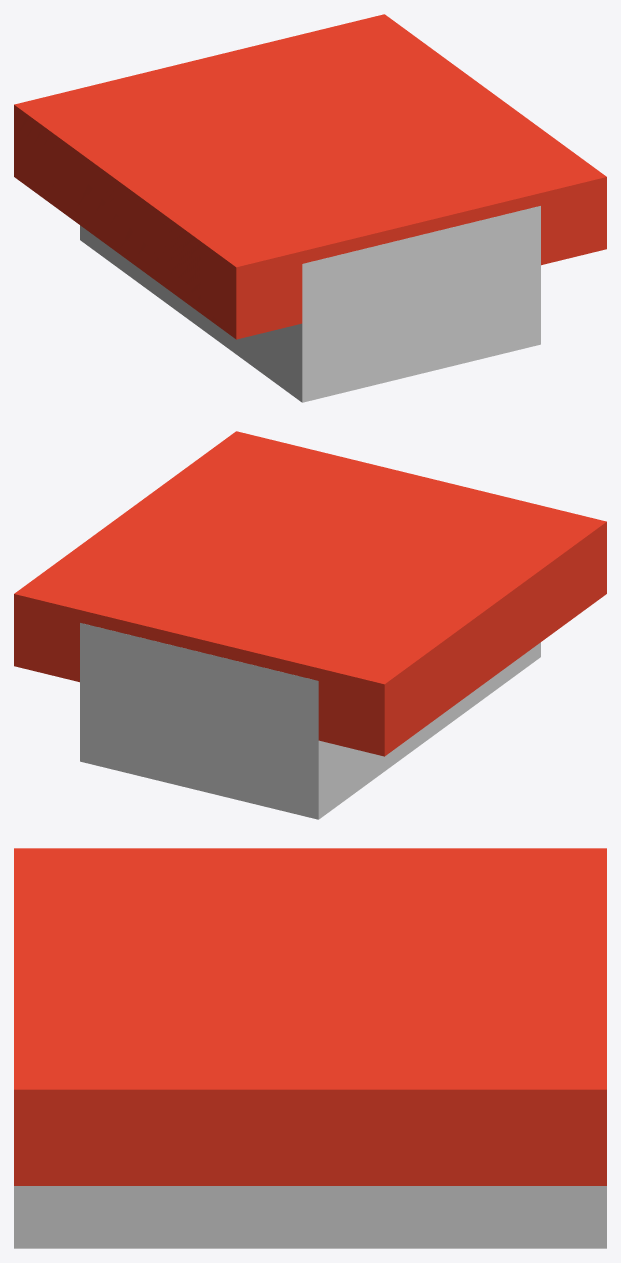
File: bench.fbx
3 renders of one model, top to bottom at view 1: azimuth 30°, elevation 25°; view 2: azimuth 150°, elevation 25°; view 3: azimuth 270°, elevation 25°, orthographic. The views are drawn at different scales.
Visible parts, largest first — view 1: Cube.001, Cube; view 2: Cube.001, Cube; view 3: Cube.001, Cube.
Boxes of the visible parts, x1,y1,x2,y2 form: Cube.001: (14,14,606,339); Cube: (80,206,540,402); Cube.001: (14,431,606,756); Cube: (80,623,540,819); Cube.001: (14,848,606,1185); Cube: (14,1186,606,1248).
Size of the model in its own units: 196 by 76.58 by 204.
